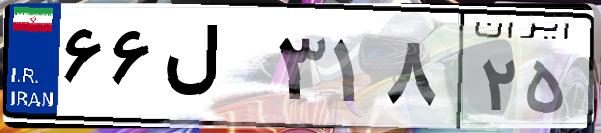1: (330, 28, 385, 110)
2: (475, 38, 525, 113)
3: (270, 28, 330, 110)
5: (525, 38, 570, 115)
6: (57, 26, 110, 100), (110, 28, 158, 98)
8: (385, 28, 445, 110)
ل: (158, 20, 270, 120)
